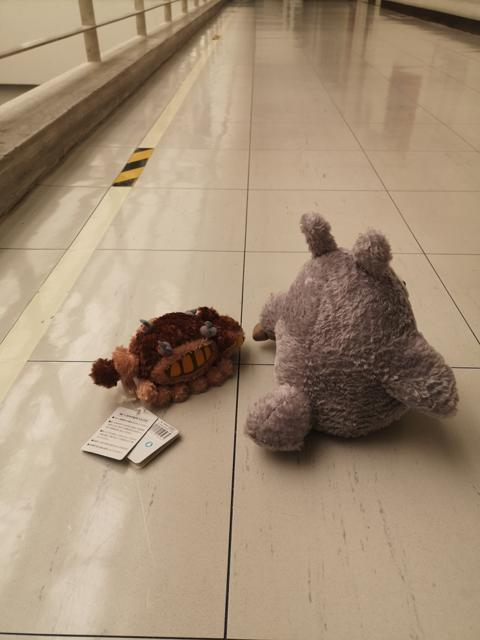nekobus: (85, 298, 251, 410)
totoro: (238, 204, 463, 457)
